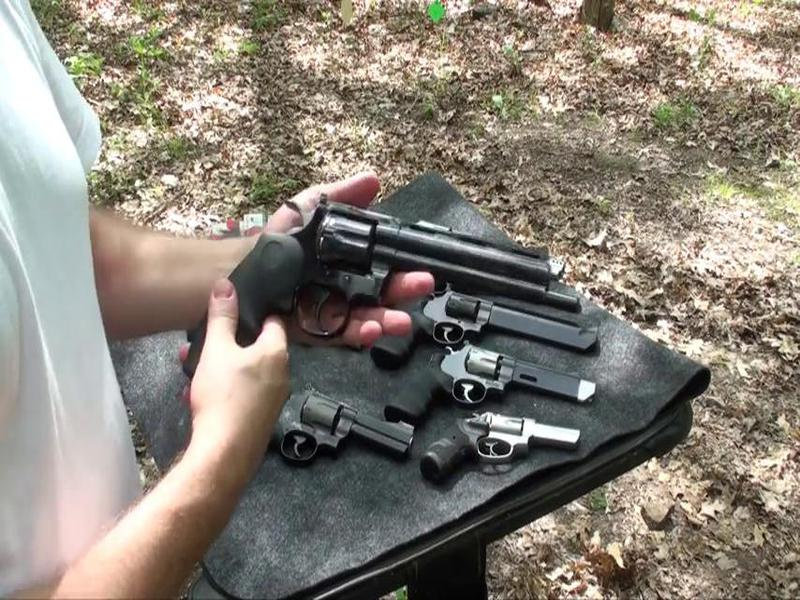Revolver: (194, 178, 577, 378)
